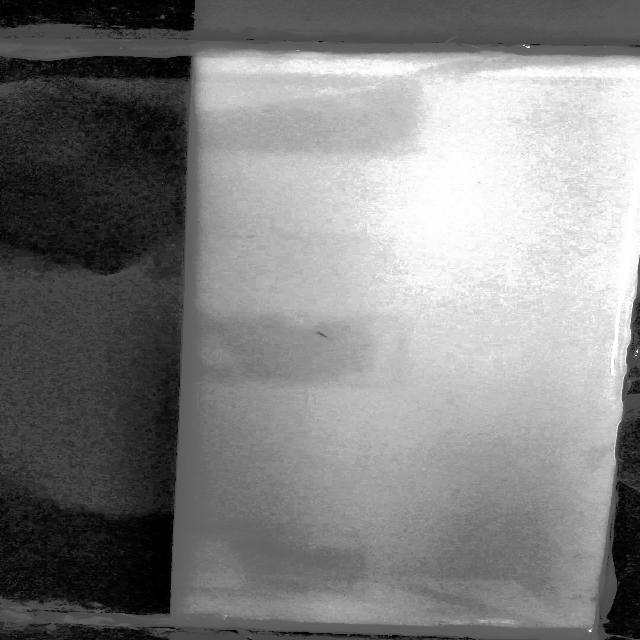shrimp: (310, 330, 329, 338)
